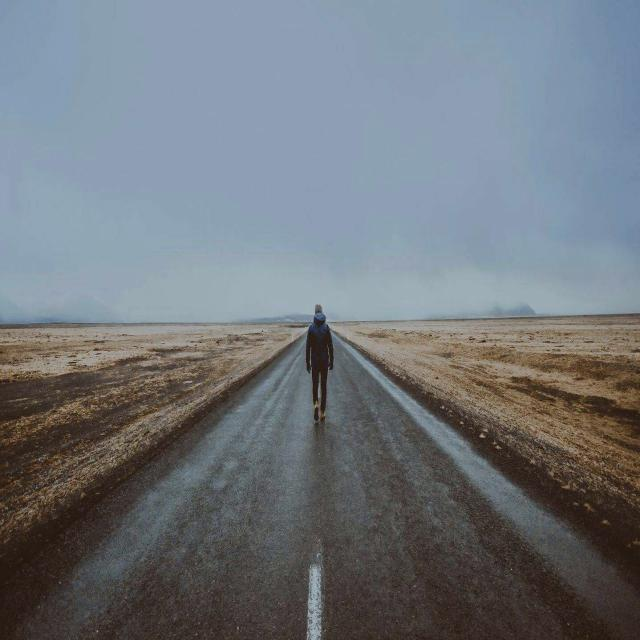non-fight: (304, 303, 335, 424)
